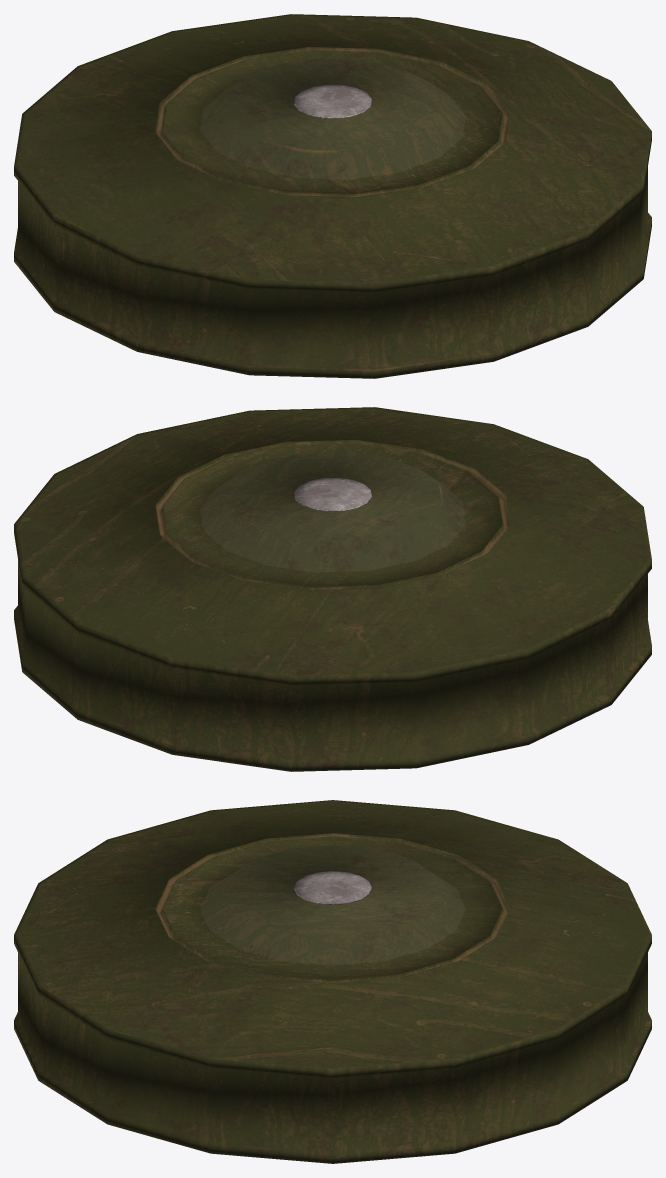
The model's file is cc0-guns-explosives-pack-glb--at-mine.glb.
3 renders of one model, top to bottom at view 1: azimuth 30°, elevation 25°; view 2: azimuth 150°, elevation 25°; view 3: azimuth 270°, elevation 25°, orthographic.
Parts seen in each view (by area): view 1: AT_MINE; view 2: AT_MINE; view 3: AT_MINE.
Part boxes in pixels (left/top/right/bottom): AT_MINE: left=14, top=14, right=651, bottom=378; AT_MINE: left=14, top=407, right=651, bottom=771; AT_MINE: left=14, top=800, right=651, bottom=1163.
Size of the model in its own units: 0.3207 by 0.0798 by 0.3207.
Materials: 1 (1 with a texture image).
